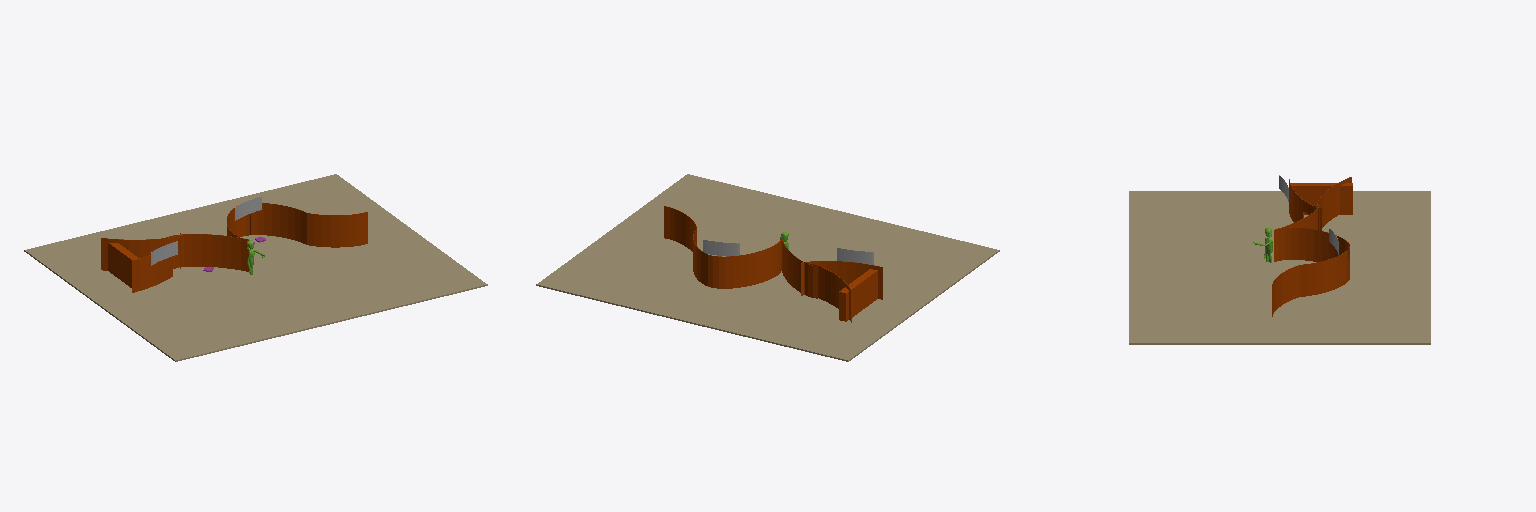
Rendered from set.obj.
3 renders of one model, left to right at view 1: azimuth 30°, elevation 25°; view 2: azimuth 150°, elevation 25°; view 3: azimuth 270°, elevation 25°, orthographic.
Visible parts, largest first — view 1: Cube_Cube.001; view 2: Cube_Cube.001; view 3: Cube_Cube.001.
Part boxes in pixels (x1,y1,x2,y2): Cube_Cube.001: (24, 174, 487, 361); Cube_Cube.001: (536, 174, 999, 361); Cube_Cube.001: (1129, 175, 1430, 344).
Bounding box in the file's own units: 83.89 × 15.19 × 70.36.